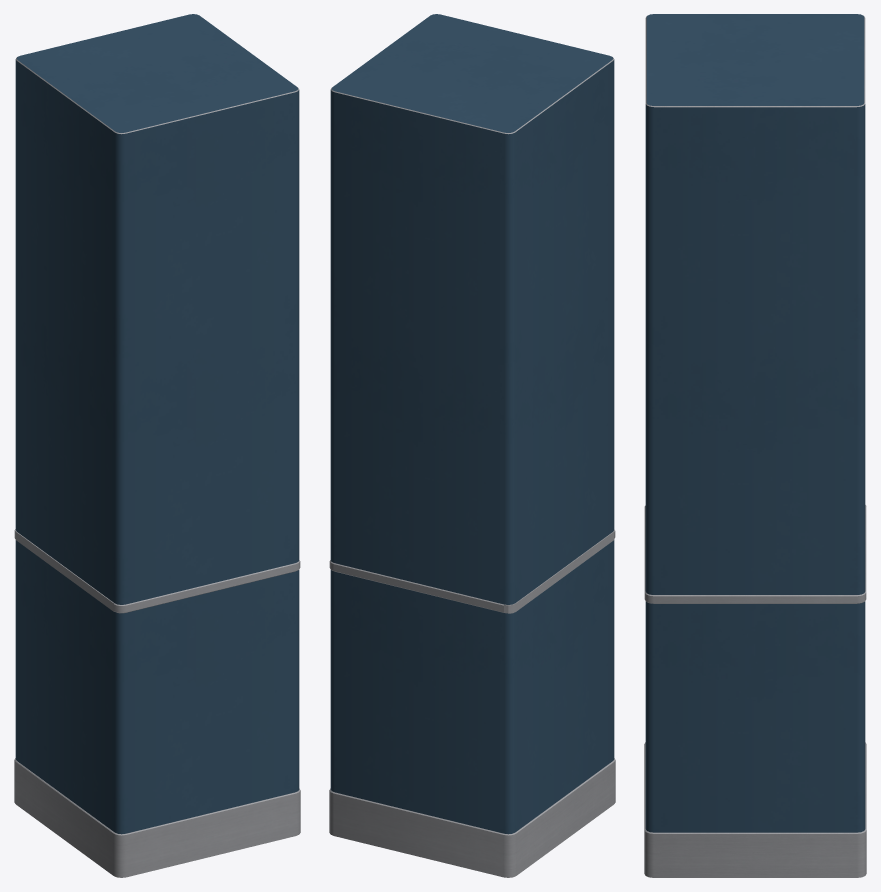
Rendered from gteki_column_square_800_accent.glb.
3 views of the same model, side by side, from view 1: azimuth 30°, elevation 25°; view 2: azimuth 150°, elevation 25°; view 3: azimuth 270°, elevation 25° (orthographic). The views are drawn at different scales.
Parts seen in each view (by area): view 1: VIS_body, VIS_trim; view 2: VIS_body, VIS_trim; view 3: VIS_body, VIS_trim.
Boxes of the visible parts, x1,y1,x2,y2 form: VIS_body: (15,14,299,834); VIS_trim: (14,529,300,877); VIS_body: (330,14,614,834); VIS_trim: (329,530,615,877); VIS_body: (645,14,865,832); VIS_trim: (644,505,866,877).
Size of what is drawn, in the model's own units: 0.81 by 3.1 by 0.81.
Materials: 2 (2 with a texture image).
